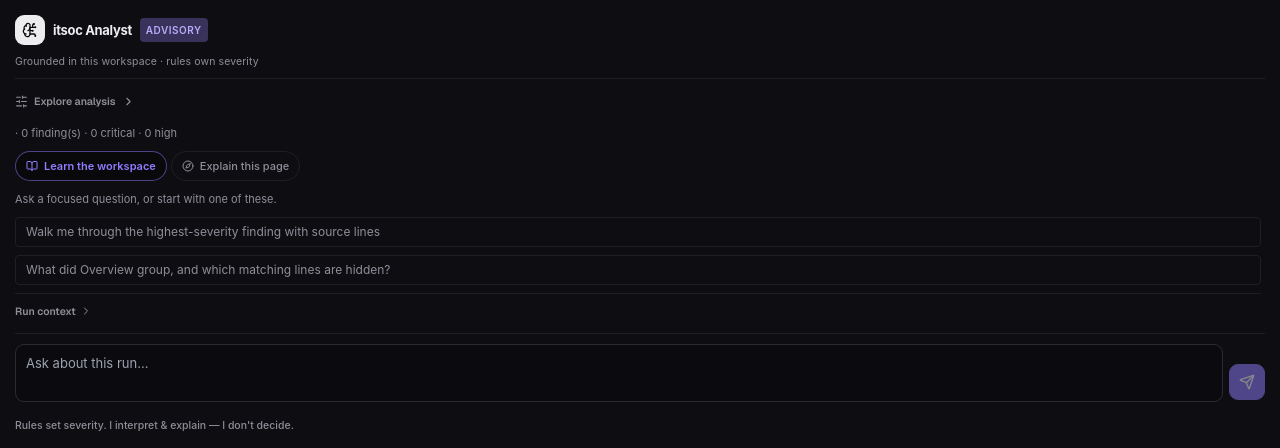
Scenario: AI copilot Showcase (design-v2 §4) › renders prose-only (no card) when the backend returns no view
Type "Summarize the dashboard" into the text box named "Ask the AI analyst" at (619, 373), box [15, 344, 1223, 402]
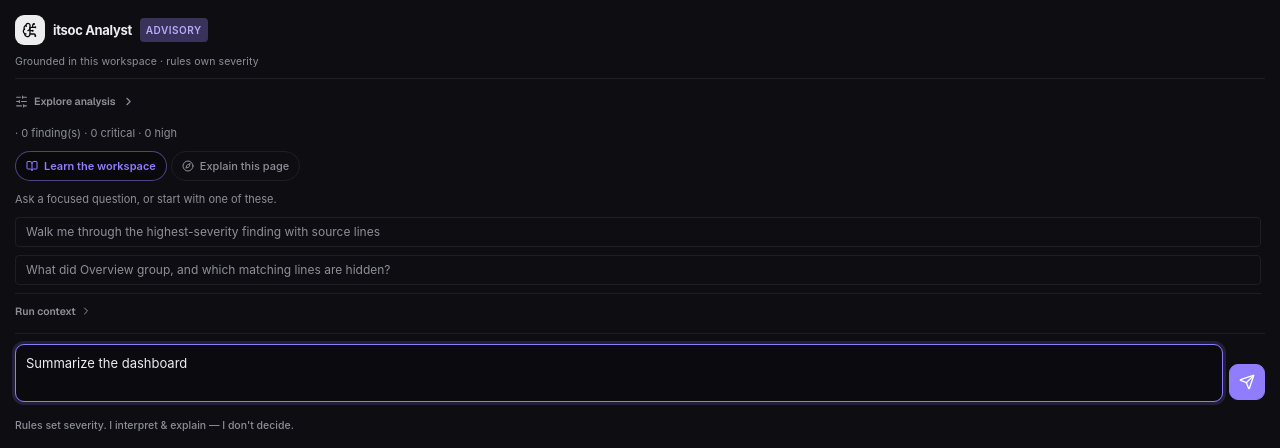
Click the button named "Send" at (1247, 382), box [1229, 364, 1265, 400]
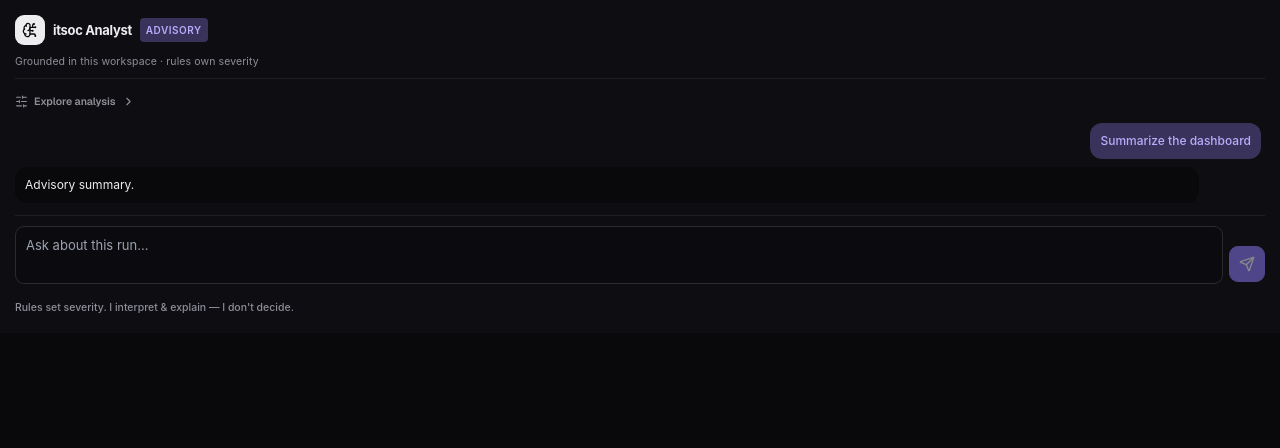
Now the text "Advisory summary." is shown, box [25, 177, 134, 192]
